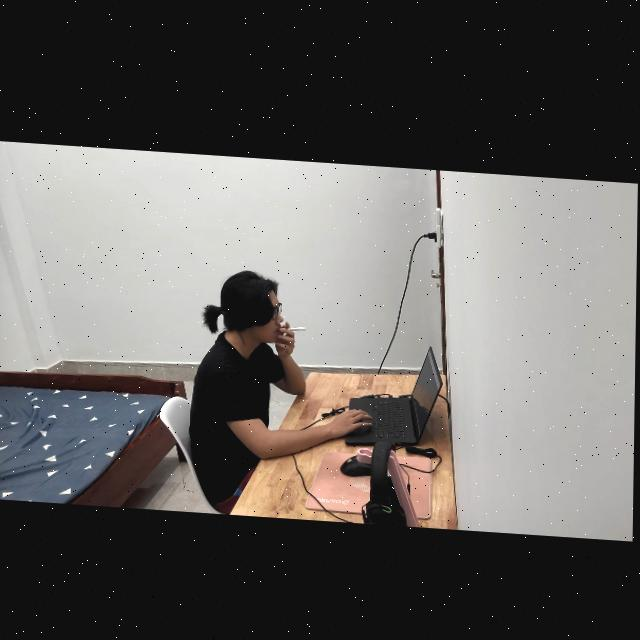cigarette: (281, 321, 306, 328)
